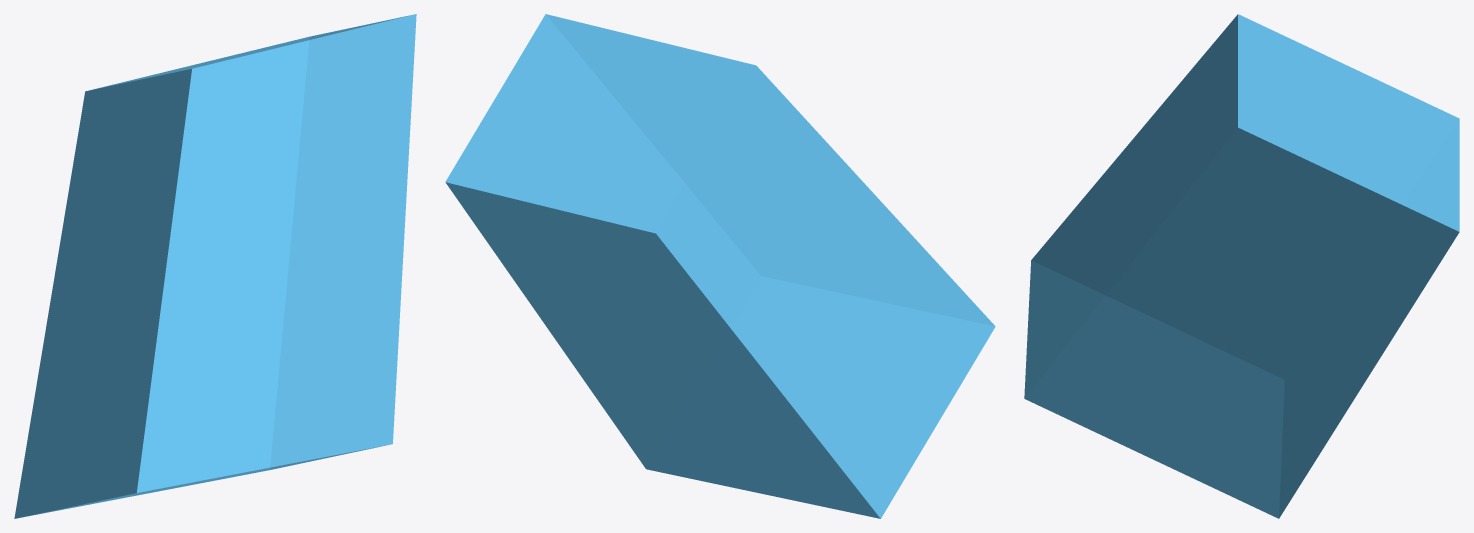
File: Event_421278790_HBrechit_8.fbx
3 views of the same model, side by side, from view 1: azimuth 30°, elevation 25°; view 2: azimuth 150°, elevation 25°; view 3: azimuth 270°, elevation 25° (orthographic). The views are drawn at different scales.
Visible parts, largest first — view 1: Model; view 2: Model; view 3: Model.
Part boxes in pixels (x1,y1,x2,y2): Model: (14, 14, 416, 518); Model: (445, 14, 995, 518); Model: (1024, 14, 1459, 518).
Bounding box in the file's own units: 0.7304 × 0.8082 × 0.6999.
